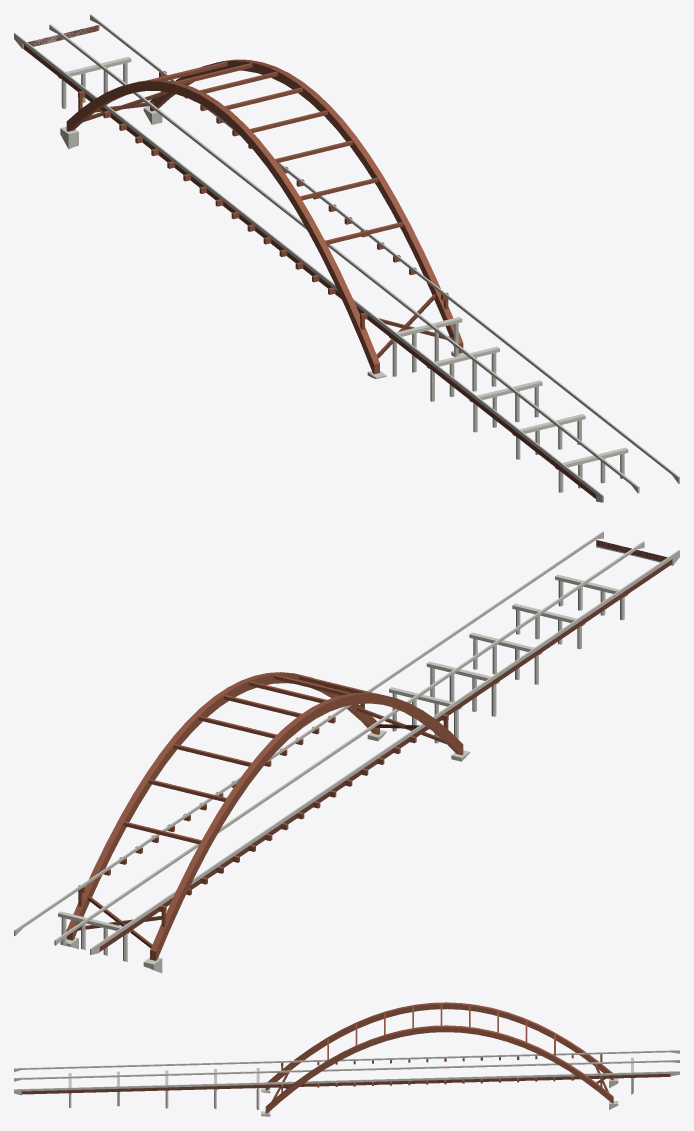
File: atx-pennybacker-bridge.glb
3 renders of one model, top to bottom at view 1: azimuth 30°, elevation 25°; view 2: azimuth 150°, elevation 25°; view 3: azimuth 270°, elevation 25°, orthographic. The views are drawn at different scales.
Parts seen in each view (by area): view 1: Pennybacker Bridge; view 2: Pennybacker Bridge; view 3: Pennybacker Bridge.
Part boxes in pixels (x1,y1,x2,y2): Pennybacker Bridge: (14, 14, 679, 502); Pennybacker Bridge: (14, 531, 679, 973); Pennybacker Bridge: (14, 1002, 679, 1116).
Bounding box in the file's own units: 32.4 × 51.89 × 352.
